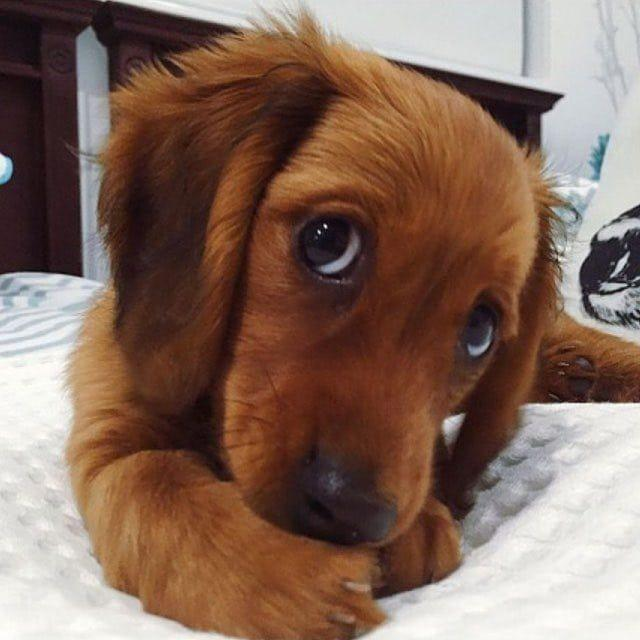puppy-dog: (63, 12, 640, 635)
